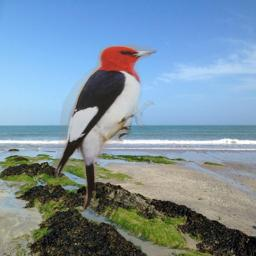Woodpecker: (54, 44, 157, 211)
